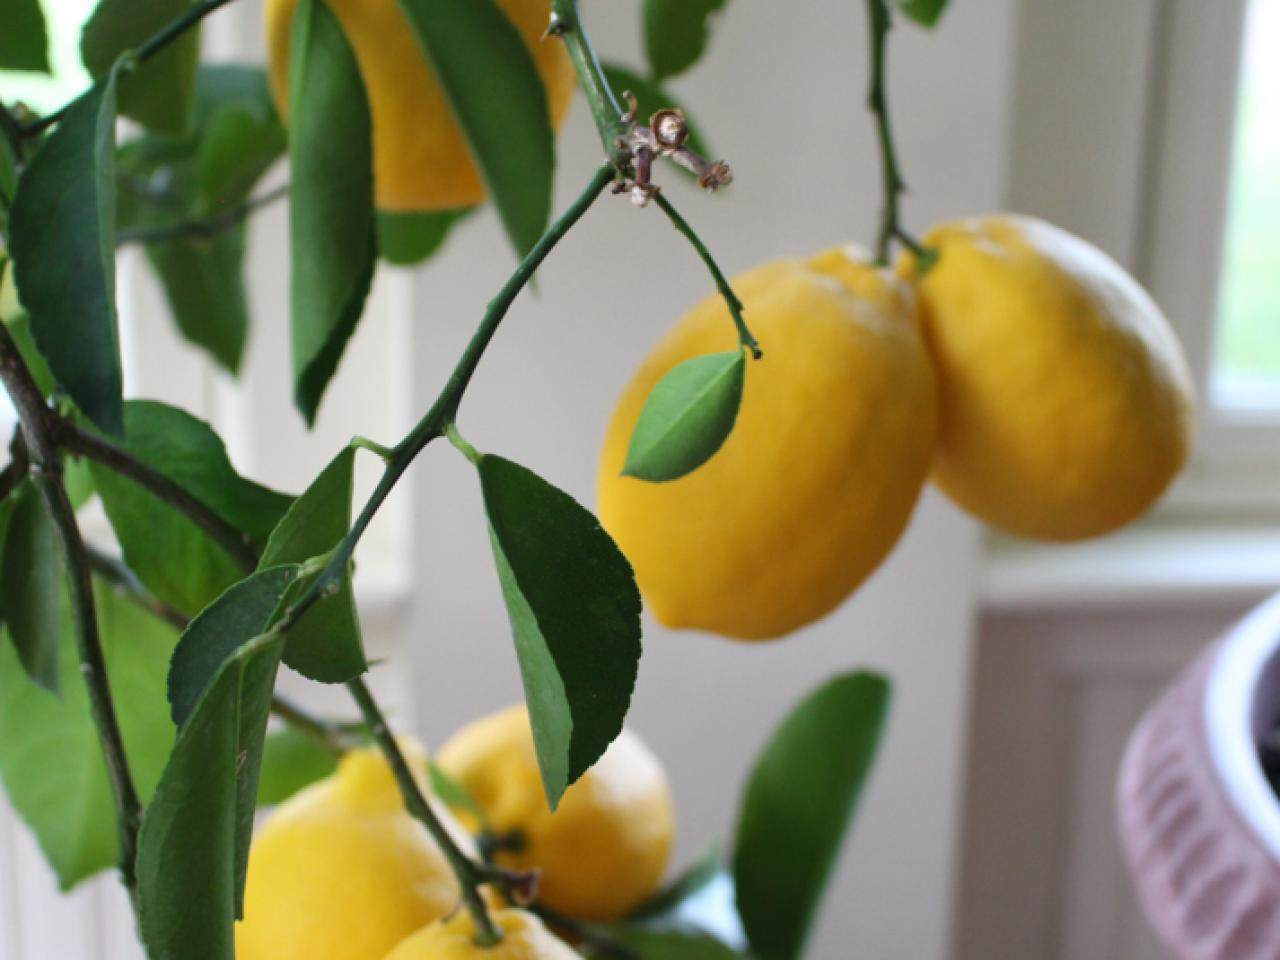Healthy Citrus: (474, 458, 643, 785), (11, 88, 145, 444), (169, 567, 287, 959), (619, 338, 758, 475)
